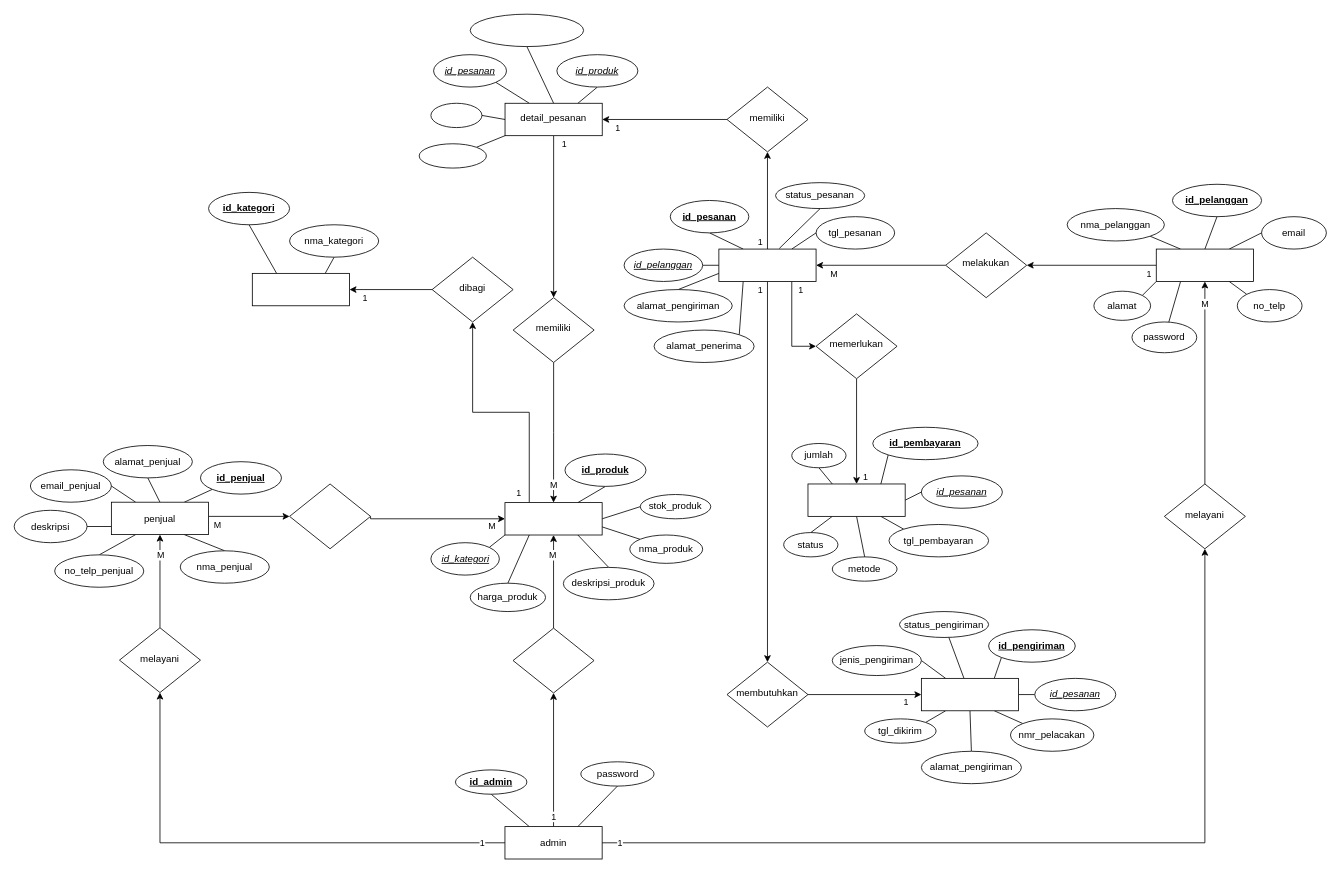
Image size: 1341x873. Some labels were removed from this diagram. Each missing label, with the centre of its shape:
"harga" goes at [456,115].
"id_detail_pesanan" goes at [526,30].
"kategori" goes at [301,289].
"kuantitas" goes at [452,155].
"menangani" goes at [553,660].
"meyediakan" goes at [330,516].
"pelanggan" goes at [1204,264].
"pembayaran" goes at [856,499].
"pengiriman" goes at [970,694].
"pesanan" goes at [767,264].
"produk" goes at [553,518].
